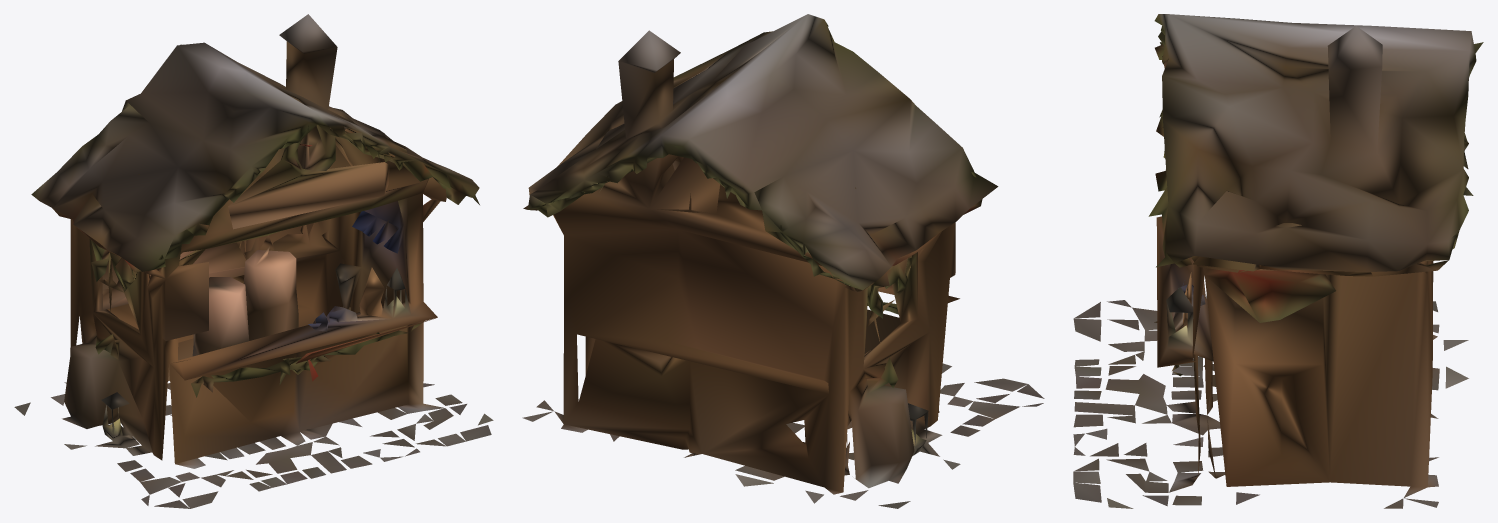
Rendered from stall-lo.glb.
The picture shows the model from 3 angles, left to right: view 1: azimuth 30°, elevation 25°; view 2: azimuth 150°, elevation 25°; view 3: azimuth 270°, elevation 25°; orthographic projection. The views are drawn at different scales.
Parts seen in each view (by area): view 1: geometry_0; view 2: geometry_0; view 3: geometry_0.
Boxes of the visible parts, left/top/right/bottom form: geometry_0: left=14, top=14, right=493, bottom=508; geometry_0: left=522, top=14, right=1044, bottom=508; geometry_0: left=1073, top=14, right=1483, bottom=508.
Size of the model in its own units: 1.76 by 1.65 by 1.42.
